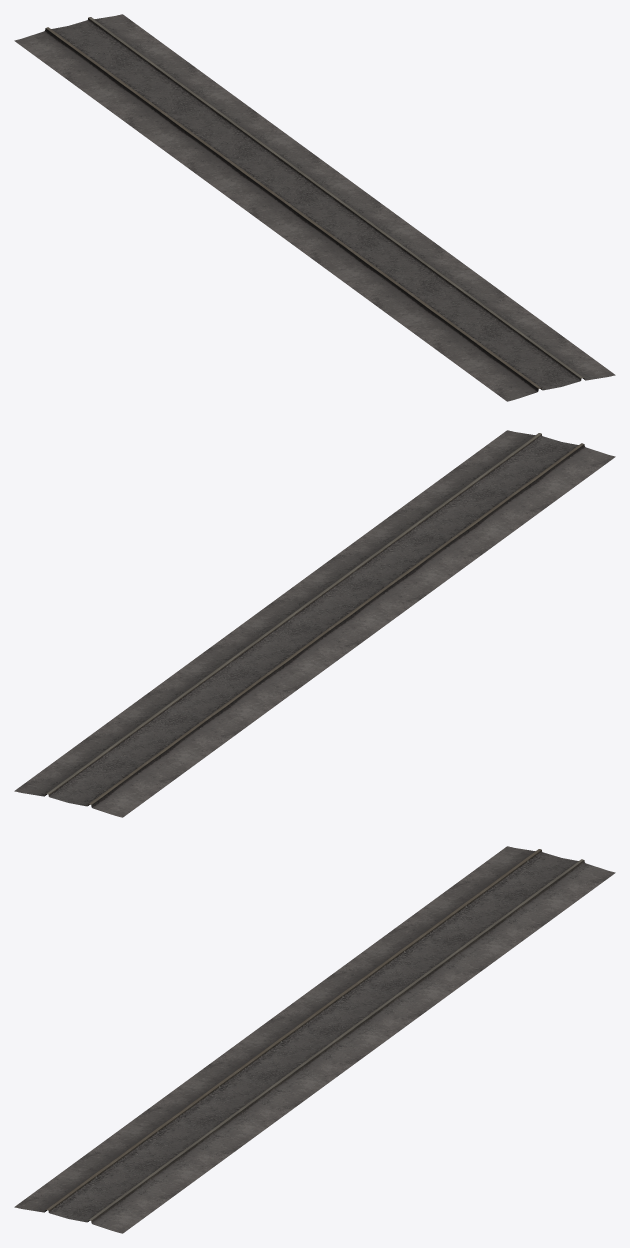
File: Rail Tunnel Straight.dae
3 views of the same model, one above another, from view 1: azimuth 30°, elevation 25°; view 2: azimuth 150°, elevation 25°; view 3: azimuth 330°, elevation 25° (orthographic).
Parts seen in each view (by area): view 1: Rail_Straight; view 2: Rail_Straight; view 3: Rail_Straight.
Part boxes in pixels (x1,y1,x2,y2): Rail_Straight: (14,14,615,401); Rail_Straight: (14,430,615,817); Rail_Straight: (14,846,615,1233).
Size of the model in its own units: 255 by 2000 by 11.7.
